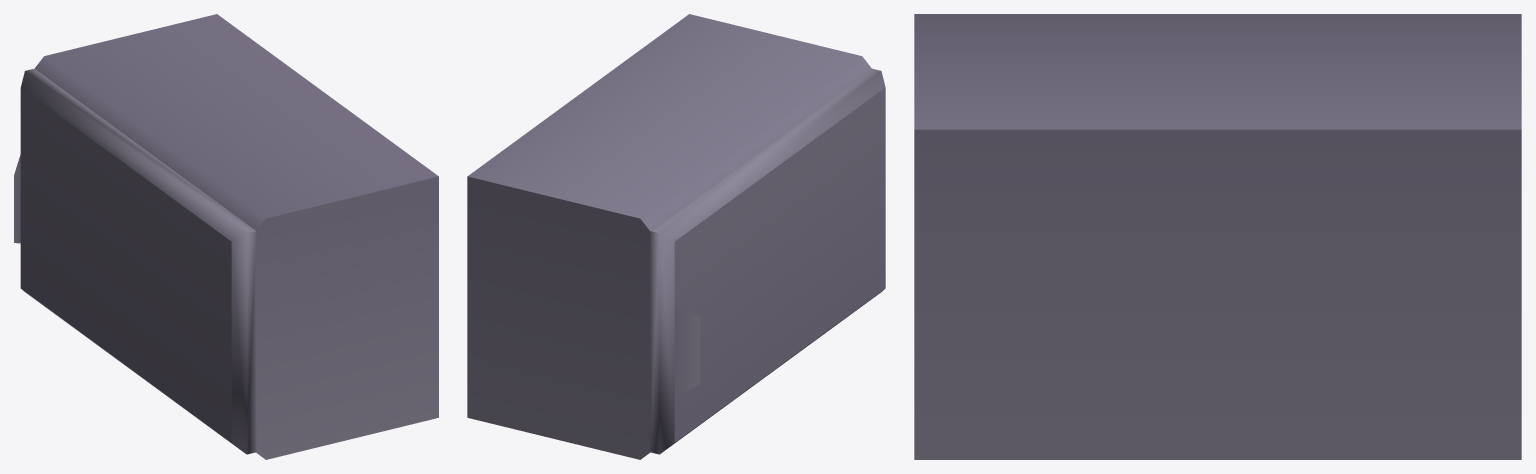
Rendered from cabinet-simple-upper-short (%wall).glb.
The picture shows the model from 3 angles, left to right: view 1: azimuth 30°, elevation 25°; view 2: azimuth 150°, elevation 25°; view 3: azimuth 270°, elevation 25°; orthographic projection. The views are drawn at different scales.
Visible parts, largest first — view 1: cabinet-simple-upper-short (%wall); view 2: cabinet-simple-upper-short (%wall); view 3: cabinet-simple-upper-short (%wall).
Part boxes in pixels (x1,y1,x2,y2): cabinet-simple-upper-short (%wall): (14,14,438,459); cabinet-simple-upper-short (%wall): (467,14,885,459); cabinet-simple-upper-short (%wall): (914,14,1521,459).
Bounding box in the file's own units: 0.2835 × 0.3 × 0.5.
